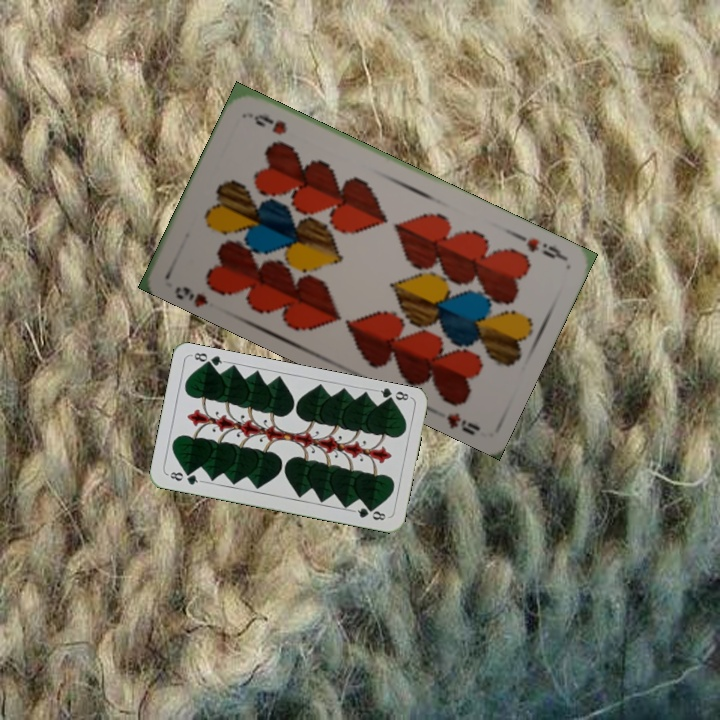G8: (373, 384, 411, 407), (164, 468, 204, 488)
H9: (522, 233, 567, 262), (170, 282, 211, 309)
